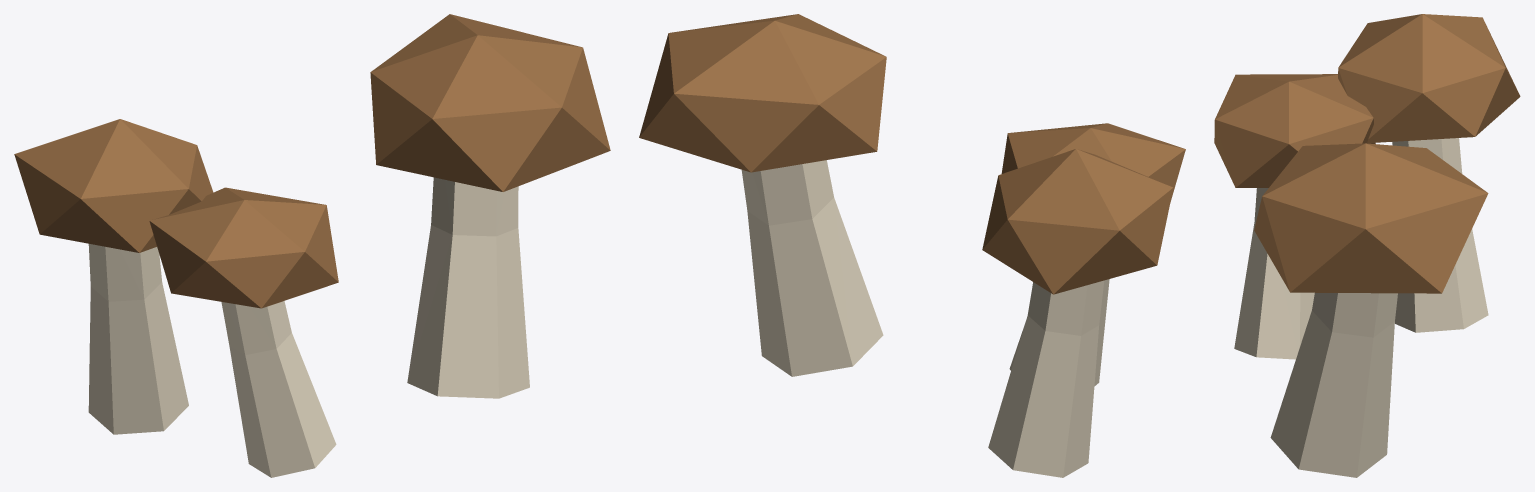
Rendered from HS_LP_Mushroom_Cluster_Brown_01.fbx.
The picture shows the model from 3 angles, left to right: view 1: azimuth 30°, elevation 25°; view 2: azimuth 150°, elevation 25°; view 3: azimuth 270°, elevation 25°; orthographic projection. The views are drawn at different scales.
Visible parts, largest first — view 1: HS_LP_Mushroom_Cluster_Brown_01; view 2: HS_LP_Mushroom_Cluster_Brown_01; view 3: HS_LP_Mushroom_Cluster_Brown_01.
Part boxes in pixels (x1=…): HS_LP_Mushroom_Cluster_Brown_01: x1=14, y1=14, x2=610, y2=477; HS_LP_Mushroom_Cluster_Brown_01: x1=639, y1=14, x2=1185, y2=477; HS_LP_Mushroom_Cluster_Brown_01: x1=1214, y1=14, x2=1520, y2=477.
Size of the model in its own units: 35.35 by 22.34 by 18.99.
